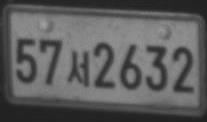2: (93, 41, 115, 89), (172, 46, 194, 93)
3: (145, 43, 167, 92)
5: (15, 37, 37, 83)
6: (120, 44, 142, 90)
7: (39, 38, 63, 85)
서: (66, 49, 91, 88)
